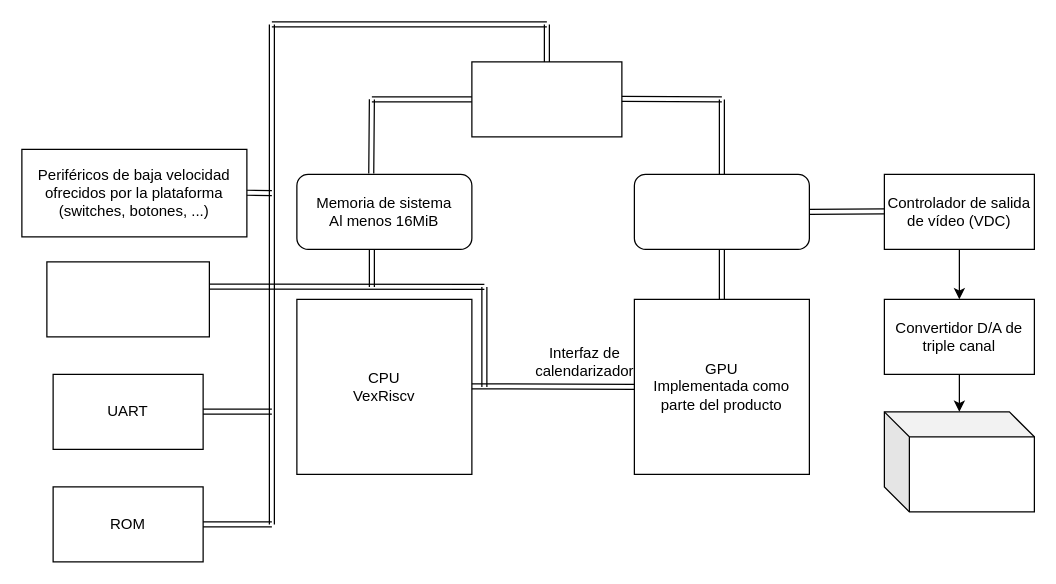
This 1056x584 diagram has some shape labels left out. Here are the shapes that lost their labels. From the top down, the box of each, then its label:
(471, 61, 622, 137): SGDMA AXI 32bits
(633, 173, 809, 249): Memoria de vídeo
(46, 261, 209, 337): Temporizador Granularidad mín: 1ms
(883, 411, 1034, 512): Pantalla o salida
